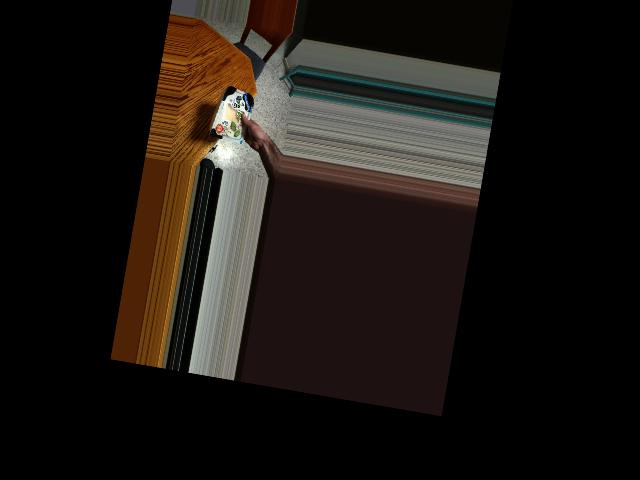cheese: (205, 84, 265, 149)
